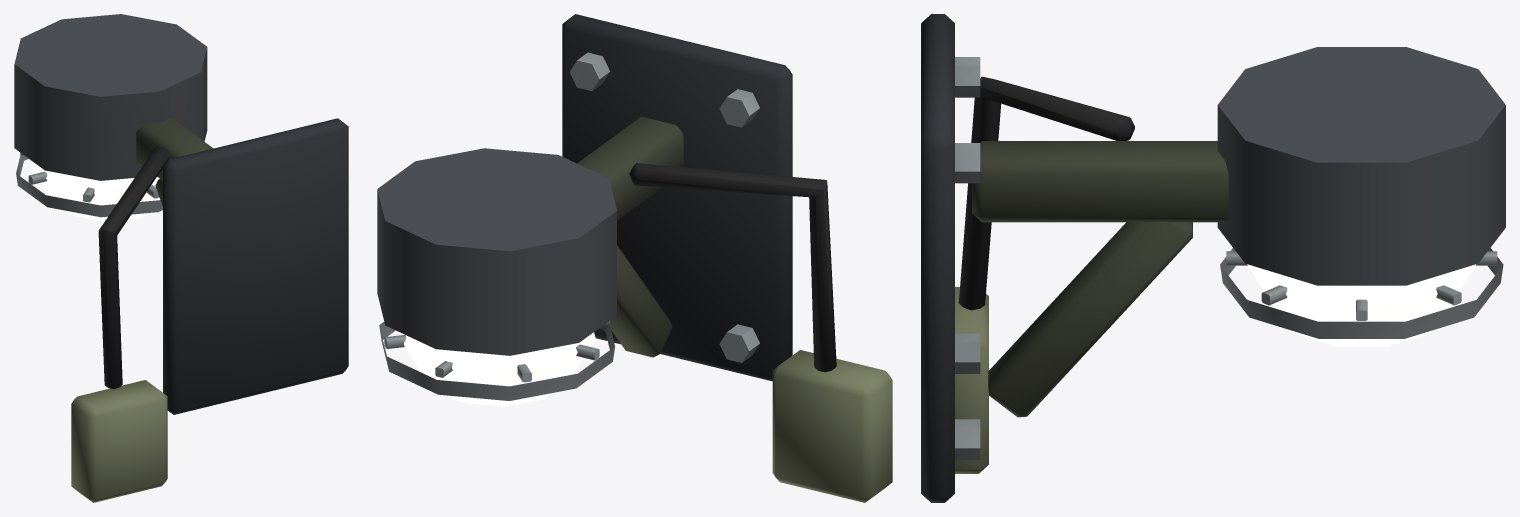
File: light_wall.glb
The picture shows the model from 3 angles, left to right: view 1: azimuth 30°, elevation 25°; view 2: azimuth 150°, elevation 25°; view 3: azimuth 270°, elevation 25°; orthographic projection. The views are drawn at different scales.
Visible parts, largest first — view 1: light_wall; view 2: light_wall; view 3: light_wall.
Part boxes in pixels (<box>): light_wall: <box>14,14,348,502</box>; light_wall: <box>377,14,892,502</box>; light_wall: <box>921,14,1505,502</box>.
Size of the model in its own units: 0.26 by 0.305 by 0.345.
Materials: 1 (1 with a texture image).
